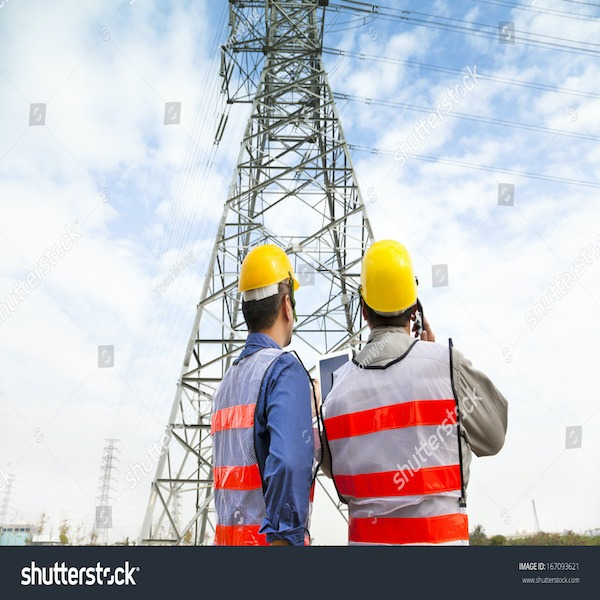helmet: (361, 237, 423, 315), (240, 243, 302, 285)
vest: (327, 342, 471, 542), (213, 346, 304, 544)
